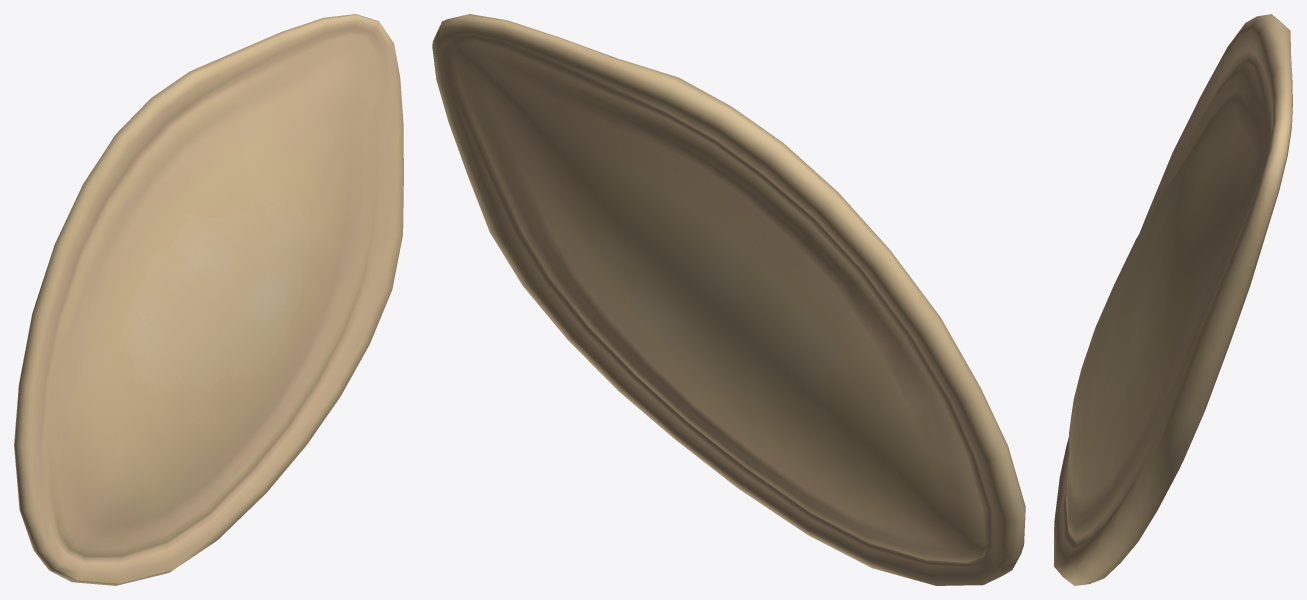
Rendered from pumpkinseed.obj.
3 renders of one model, left to right at view 1: azimuth 30°, elevation 25°; view 2: azimuth 150°, elevation 25°; view 3: azimuth 270°, elevation 25°, orthographic. The views are drawn at different scales.
Visible parts, largest first — view 1: pumpkinseed:pumpkinsd; view 2: pumpkinseed:pumpkinsd; view 3: pumpkinseed:pumpkinsd.
Boxes of the visible parts, x1,y1,x2,y2 form: pumpkinseed:pumpkinsd: [14, 14, 403, 585]; pumpkinseed:pumpkinsd: [432, 14, 1025, 585]; pumpkinseed:pumpkinsd: [1054, 14, 1292, 585].
Size of the model in its own units: 1.45 by 1.43 by 0.4775.
